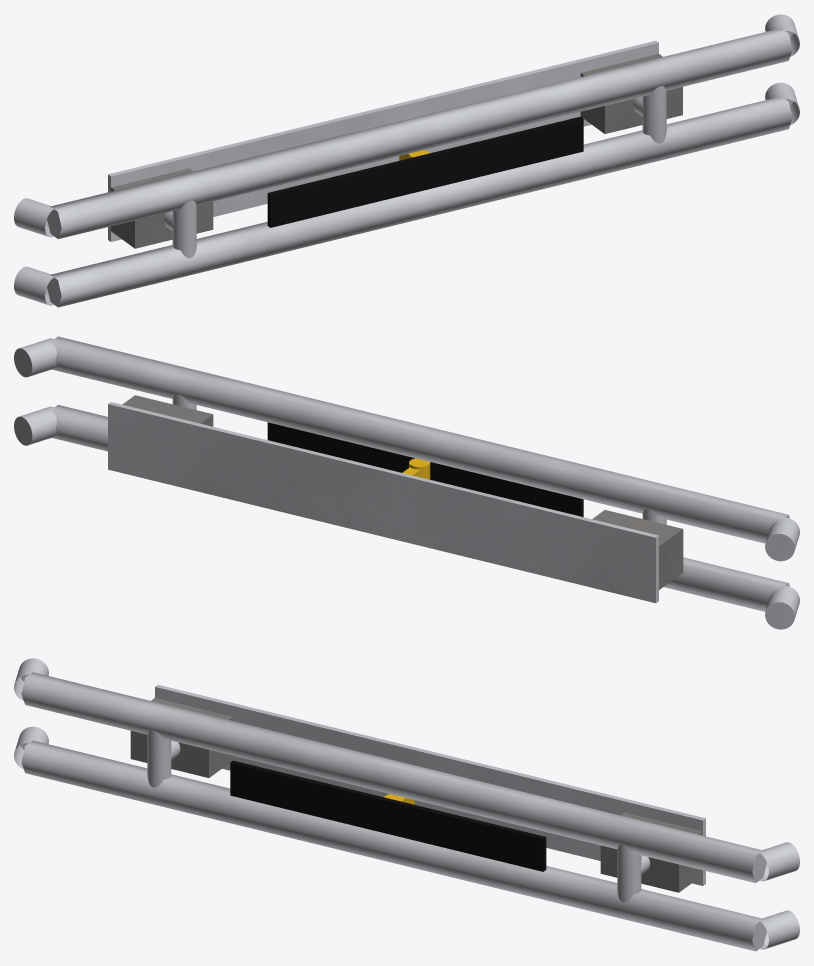
File: rover34_bumper_l.glb
The picture shows the model from 3 angles, top to bottom: view 1: azimuth 30°, elevation 25°; view 2: azimuth 150°, elevation 25°; view 3: azimuth 330°, elevation 25°; orthographic projection.
Visible parts, largest first — view 1: push_bar, mount_plate, rubber_pads, crush_boxes; view 2: mount_plate, push_bar, rubber_pads, crush_boxes; view 3: push_bar, mount_plate, rubber_pads, crush_boxes.
Boxes of the visible parts, left/top/right/bottom form: push_bar: left=14, top=14, right=799, bottom=307; mount_plate: left=108, top=40, right=658, bottom=241; rubber_pads: left=267, top=116, right=583, bottom=227; crush_boxes: left=111, top=54, right=682, bottom=248; mount_plate: left=108, top=402, right=658, bottom=603; push_bar: left=14, top=336, right=799, bottom=629; rubber_pads: left=267, top=422, right=583, bottom=516; crush_boxes: left=122, top=395, right=683, bottom=589; push_bar: left=14, top=658, right=799, bottom=951; mount_plate: left=155, top=684, right=705, bottom=885; rubber_pads: left=230, top=760, right=546, bottom=871; crush_boxes: left=130, top=698, right=702, bottom=892.
Size of the model in its own units: 2.99 by 0.35 by 0.3.
Materials: 4 (2 with a texture image).
